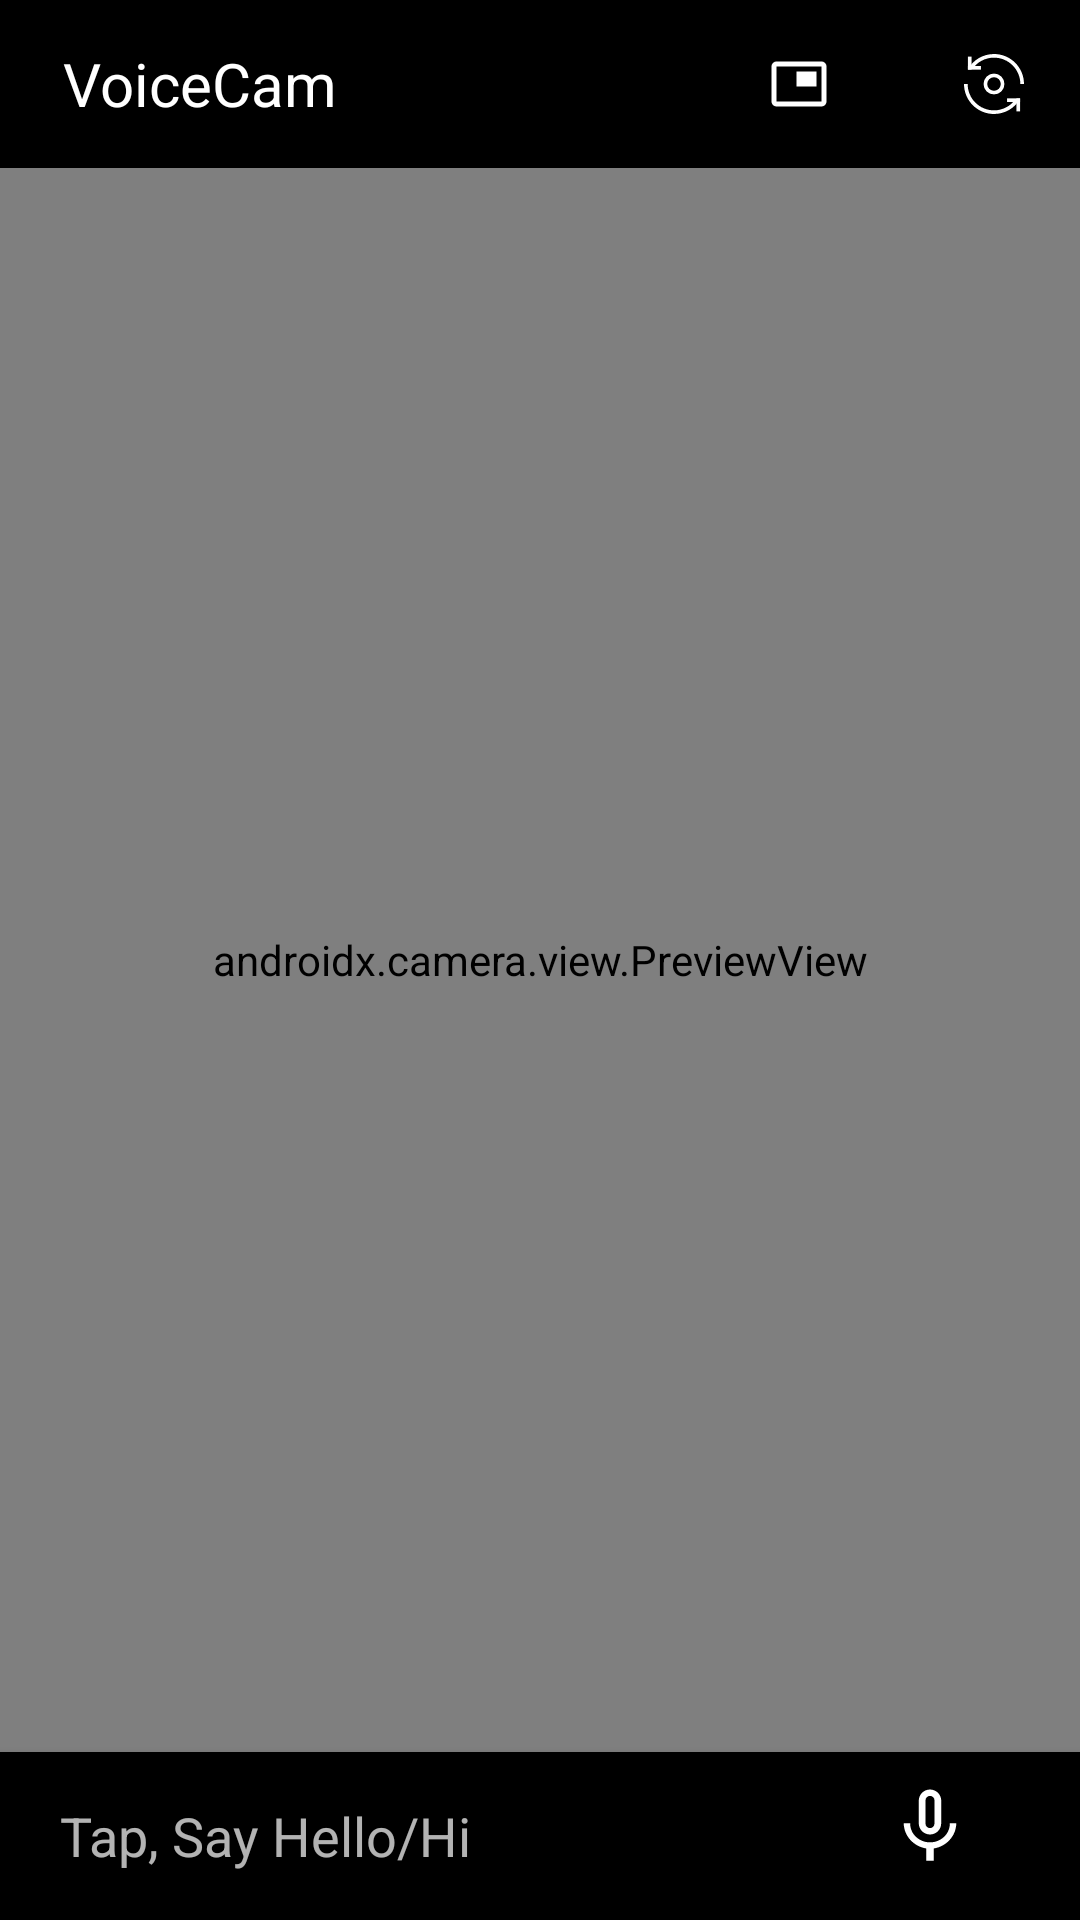

Where to tap for icons on this 1080 x 1920 app screen, as [x,y]:
switch: [994,84]
Tap to record Audio: [930,1825]
